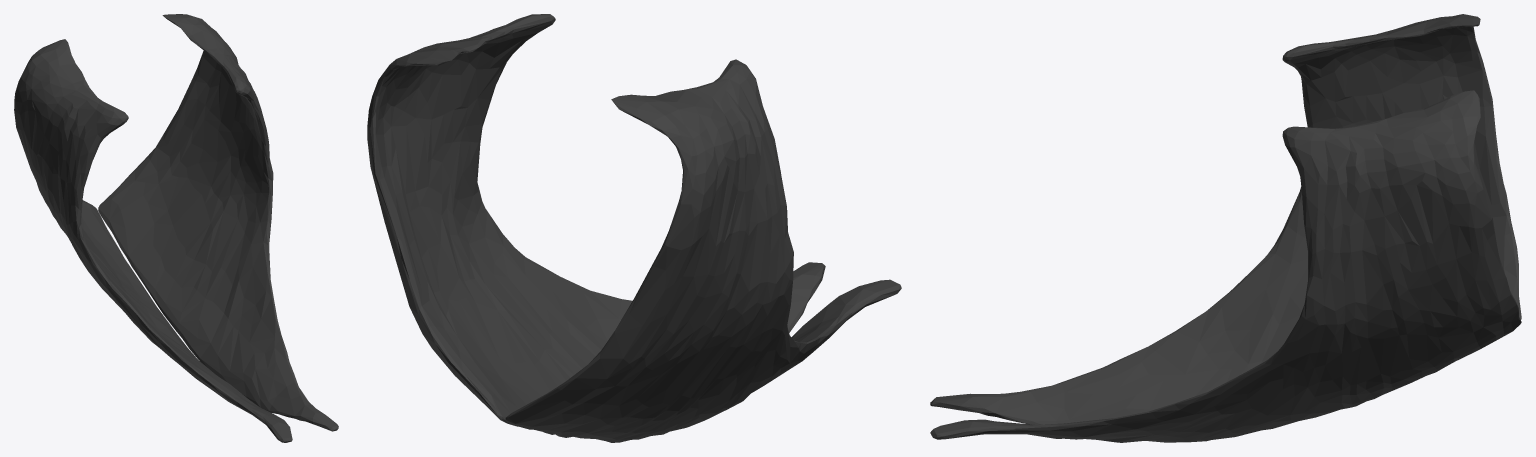
The model's file is m_transverse_abdominal.glb.
3 renders of one model, left to right at view 1: azimuth 30°, elevation 25°; view 2: azimuth 150°, elevation 25°; view 3: azimuth 270°, elevation 25°, orthographic. The views are drawn at different scales.
Parts seen in each view (by area): view 1: m_transverse_abdominal; view 2: m_transverse_abdominal; view 3: m_transverse_abdominal.
Boxes of the visible parts, <box> form: m_transverse_abdominal: <box>14,14,338,442</box>; m_transverse_abdominal: <box>367,14,901,442</box>; m_transverse_abdominal: <box>930,14,1521,442</box>.
Bounding box in the file's own units: 0.00646 × 0.00846 × 0.0119.
Materials: 1 (1 with a texture image).
